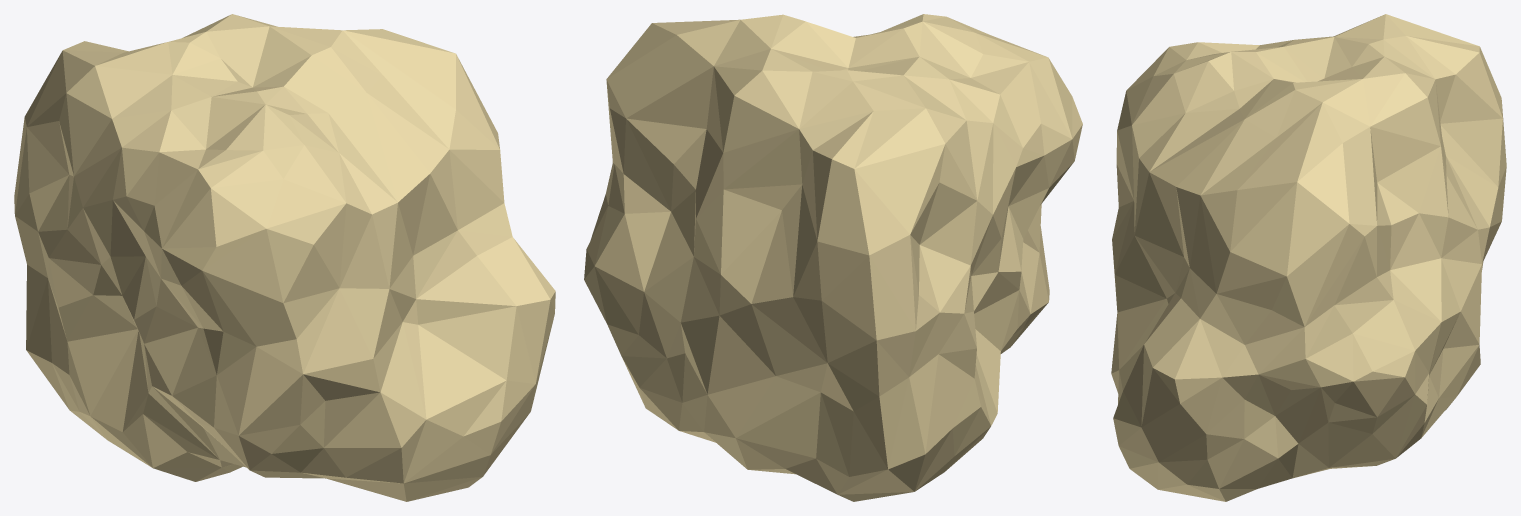
The model's file is Asteroid (35).fbx.
The picture shows the model from 3 angles, left to right: view 1: azimuth 30°, elevation 25°; view 2: azimuth 150°, elevation 25°; view 3: azimuth 270°, elevation 25°; orthographic projection. The views are drawn at different scales.
Visible parts, largest first — view 1: Asteroid120; view 2: Asteroid120; view 3: Asteroid120.
Boxes of the visible parts, left/top/right/bottom form: Asteroid120: left=14, top=14, right=555, bottom=501; Asteroid120: left=584, top=14, right=1082, bottom=501; Asteroid120: left=1111, top=14, right=1506, bottom=501.
Size of the model in its own units: 281 by 281 by 262.
